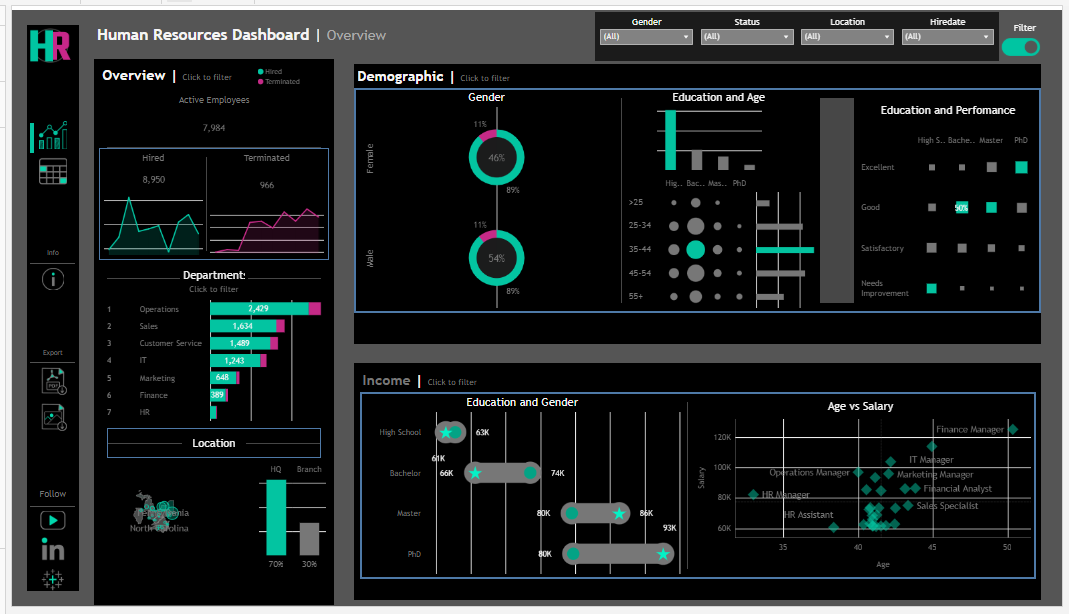

The dashboard page shown, as its layout file describes it:
{"tool":"tableau","page":{"name":"HR|Summary ","canvas":[1400,800],"ordinal":1},"visuals":[{"type":"blank","box":[90,0,1306,265]},{"type":"text","box":[110,5,683,65]},{"type":"blank","box":[793,5,587,65]},{"type":"filter","title":"Gender vs Educational level","param":"[federated.17wzmjz0546fji14v872w0oebb7q].[none:Gender:nk]","box":[780,10,134,61]},{"type":"filter","title":"Gender vs Educational level","param":"[federated.17wzmjz0546fji14v872w0oebb7q].[none:Calculation_875950177753149456:nk","box":[914,10,134,61]},{"type":"filter","title":"Gender vs Educational level","param":"[federated.17wzmjz0546fji14v872w0oebb7q].[none:Calculation_875950177168719877:nk","box":[1048,10,134,61]},{"type":"filter","title":"Gender vs Educational level","param":"[federated.17wzmjz0546fji14v872w0oebb7q].[yr:Hiredate:ok]","box":[1182,10,133,61]},{"type":"text","box":[1301,14,100,30]},{"type":"image","param":"Image/Logo.png","box":[20,25,70,55]},{"type":"dashboard-object","box":[1319,37,53,35]},{"type":"text","box":[328,75,96,38]},{"type":"text","box":[117,77,306,41]},{"type":"text","box":[457,77,916,32]},{"type":"blank","box":[20,80,70,73]},{"type":"text","box":[460,112,352,26]},{"type":"blank","box":[812,112,1,294]},{"type":"text","box":[813,112,265,26]},{"type":"blank","box":[1078,112,45,294]},{"type":"text","box":[1123,112,247,52]},{"type":"text","box":[117,118,306,35]},{"type":"worksheet","title":"Gender","mark":"Pie","rows":["Gender"],"cols":["Calculation_875950177221263367","Calculation_875950177221263367"],"box":[460,138,352,268]},{"type":"worksheet","title":"Educational Levels","mark":"Bar","rows":["Calculation1"],"cols":["Education Level"],"box":[813,138,265,91]},{"type":"dashboard-object","box":[20,153,70,38]},{"type":"worksheet","title":"BAN Active","mark":"Text","box":[117,153,306,51]},{"type":"blank","box":[24,156,6,40]},{"type":"worksheet","title":"Education vs Perfomance","mark":"Square","rows":["Performance Rating"],"cols":["Education Level"],"box":[1123,164,247,242]},{"type":"blank","box":[20,191,70,10]},{"type":"dashboard-object","box":[20,201,70,38]},{"type":"blank","box":[117,204,306,1]},{"type":"text","box":[119,207,140,29]},{"type":"blank","box":[259,207,1,145]},{"type":"text","box":[260,207,160.9,29]},{"type":"worksheet","title":"Age vs Education","mark":"Circle","rows":["Calculation_875950177230618637"],"cols":["Education Level"],"box":[813,229,176,177]},{"type":"worksheet","title":"Age Groups","mark":"Bar","rows":["Calculation_875950177230618637"],"cols":["Calculation_875950176884748288"],"box":[989,229,89,177]},{"type":"worksheet","title":"BAN Hired","mark":"Text","box":[119,236,140,32]},{"type":"worksheet","title":"BAN Terminated","mark":"Text","box":[260,236,160.9,43]},{"type":"blank","box":[20,239,70,80]},{"type":"text","box":[90,265,1306,238]},{"type":"worksheet","title":"HIRED by YEAR ","mark":"Line","rows":["Calculation_875950176884748288","Calculation_875950176884748288"],"cols":["Hiredate"],"box":[119,268,140,84]},{"type":"worksheet","title":"Terminated by YEAR","mark":"Line","rows":["Calculation_875950176884969473","Calculation_875950176884969473"],"cols":["Termdate"],"box":[260,279,160.9,73]},{"type":"text","box":[20,319,70,25]},{"type":"blank","box":[20,344,70,11]},{"type":"dashboard-object","box":[20,355,70,30]},{"type":"blank","box":[127,359,95.3,45]},{"type":"text","box":[222.3,359,95.3,45]},{"type":"blank","box":[317.6,359,95.3,45]},{"type":"blank","box":[20,385,70,68.6]},{"type":"worksheet","title":"Department","mark":"Bar","rows":["Calculation_875950177165205508","Department"],"cols":["Calculation_875950176884748288"],"box":[117,404,306,169]},{"type":"blank","box":[457,409,916,42]},{"type":"text","box":[20,453.6,70,20]},{"type":"blank","box":[20,473.6,70,11]},{"type":"text","box":[464,483,902,32]},{"type":"dashboard-object","box":[20,484.6,70,38]},{"type":"blank","box":[90,503,1306,297]},{"type":"text","box":[467,518,433,26]},{"type":"blank","box":[900,518,1,243]},{"type":"text","box":[901,518,462,32]},{"type":"blank","box":[20,522.6,70,10]},{"type":"dashboard-object","box":[20,532.6,70,38]},{"type":"worksheet","title":"Gender vs Educational level","mark":"Square","rows":["Education Level"],"cols":["Salary","Salary"],"box":[467,544,433,217]},{"type":"worksheet","title":"Age vs Salary","mark":"Shape","rows":["Salary"],"cols":["Calculation_875950177228349452"],"box":[901,550,462,211]},{"type":"blank","box":[20,570.6,70,68.6]},{"type":"blank","box":[129,580,96.7,37]},{"type":"text","box":[225.7,580,88.6,37]},{"type":"blank","box":[314.3,580,96.7,37]},{"type":"worksheet","title":"Map State","mark":"Automatic","box":[117,619,209,141]},{"type":"worksheet","title":"Location","mark":"Bar","rows":["Calculation_875950176884748288"],"cols":["Calculation_875950177168719877","Calculation1"],"box":[326,619,97,141]},{"type":"text","box":[20,639.3,70,29]},{"type":"blank","box":[20,668.3,70,11]},{"type":"image","param":"Image/contact-channel.png","box":[20,679.3,70,25]},{"type":"blank","box":[20,704.3,70,10]},{"type":"image","param":"Image/contact-linkedin.png","box":[20,714.3,70,25.7]},{"type":"blank","box":[20,740,70,10]},{"type":"image","param":"Image/contact-public.png","box":[20,750,70,30]},{"type":"blank","box":[117,760,306,32]}]}

Visuals, with their boxes in screenshot pixels (x1, y1, x2, y2), scaled from the page's 1400x800 canvas onto the 1069x614 screenshot:
blank: l=69, t=0, r=1066, b=203
text: l=84, t=4, r=606, b=54
blank: l=606, t=4, r=1054, b=54
"Gender vs Educational level" filter: l=596, t=8, r=698, b=54
"Gender vs Educational level" filter: l=698, t=8, r=800, b=54
"Gender vs Educational level" filter: l=800, t=8, r=903, b=54
"Gender vs Educational level" filter: l=903, t=8, r=1004, b=54
text: l=993, t=11, r=1068, b=34
image: l=15, t=19, r=69, b=61
dashboard-object: l=1007, t=28, r=1048, b=55
text: l=250, t=58, r=324, b=87
text: l=89, t=59, r=323, b=91
text: l=349, t=59, r=1048, b=84
blank: l=15, t=61, r=69, b=117
text: l=351, t=86, r=620, b=106
blank: l=620, t=86, r=621, b=312
text: l=621, t=86, r=823, b=106
blank: l=823, t=86, r=857, b=312
text: l=857, t=86, r=1046, b=126
text: l=89, t=91, r=323, b=117
"Gender" worksheet (Pie marks): l=351, t=106, r=620, b=312
"Educational Levels" worksheet (Bar marks): l=621, t=106, r=823, b=176
dashboard-object: l=15, t=117, r=69, b=147
"BAN Active" worksheet (Text marks): l=89, t=117, r=323, b=157
blank: l=18, t=120, r=23, b=150
"Education vs Perfomance" worksheet (Square marks): l=857, t=126, r=1046, b=312
blank: l=15, t=147, r=69, b=154
dashboard-object: l=15, t=154, r=69, b=183
text: l=91, t=159, r=198, b=181
blank: l=198, t=159, r=199, b=270
text: l=199, t=159, r=321, b=181
"Age vs Education" worksheet (Circle marks): l=621, t=176, r=755, b=312
"Age Groups" worksheet (Bar marks): l=755, t=176, r=823, b=312
"BAN Hired" worksheet (Text marks): l=91, t=181, r=198, b=206
"BAN Terminated" worksheet (Text marks): l=199, t=181, r=321, b=214
blank: l=15, t=183, r=69, b=245
text: l=69, t=203, r=1066, b=386
"HIRED by YEAR " worksheet (Line marks): l=91, t=206, r=198, b=270
"Terminated by YEAR" worksheet (Line marks): l=199, t=214, r=321, b=270
text: l=15, t=245, r=69, b=264
blank: l=15, t=264, r=69, b=272
dashboard-object: l=15, t=272, r=69, b=295
blank: l=97, t=276, r=170, b=310
text: l=170, t=276, r=243, b=310
blank: l=243, t=276, r=315, b=310
blank: l=15, t=295, r=69, b=348
"Department" worksheet (Bar marks): l=89, t=310, r=323, b=440
blank: l=349, t=314, r=1048, b=346
text: l=15, t=348, r=69, b=363
blank: l=15, t=363, r=69, b=372
text: l=354, t=371, r=1043, b=395
dashboard-object: l=15, t=372, r=69, b=401
blank: l=69, t=386, r=1066, b=613
text: l=357, t=398, r=687, b=418
blank: l=687, t=398, r=688, b=584
text: l=688, t=398, r=1041, b=422
blank: l=15, t=401, r=69, b=409
dashboard-object: l=15, t=409, r=69, b=438
"Gender vs Educational level" worksheet (Square marks): l=357, t=418, r=687, b=584
"Age vs Salary" worksheet (Shape marks): l=688, t=422, r=1041, b=584
blank: l=15, t=438, r=69, b=491
blank: l=99, t=445, r=172, b=474
text: l=172, t=445, r=240, b=474
blank: l=240, t=445, r=314, b=474
"Map State" worksheet: l=89, t=475, r=249, b=583
"Location" worksheet (Bar marks): l=249, t=475, r=323, b=583
text: l=15, t=491, r=69, b=513
blank: l=15, t=513, r=69, b=521
image: l=15, t=521, r=69, b=541
blank: l=15, t=541, r=69, b=548
image: l=15, t=548, r=69, b=568
blank: l=15, t=568, r=69, b=576
image: l=15, t=576, r=69, b=599
blank: l=89, t=583, r=323, b=608
